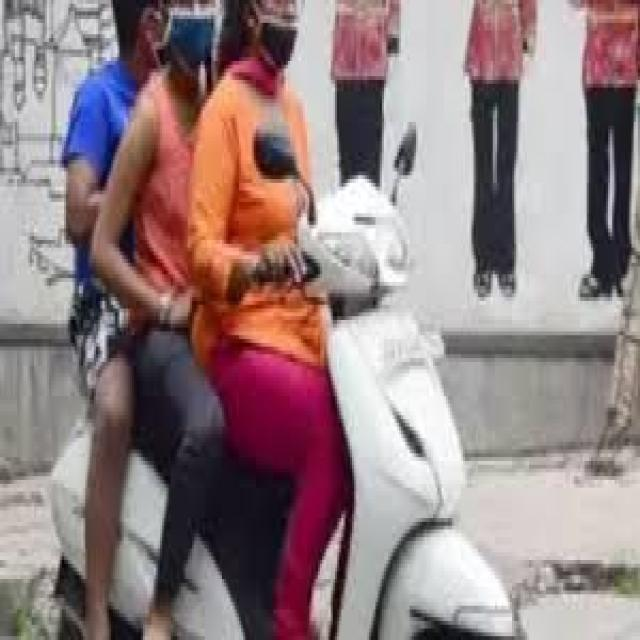Triple_riding: (84, 0, 398, 640)
